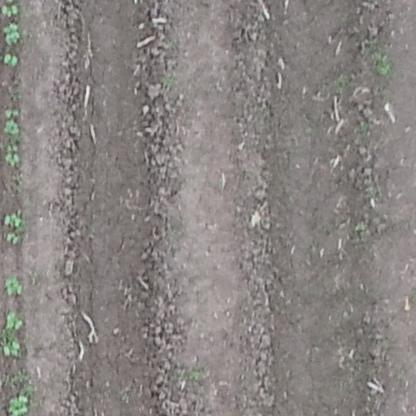vc: (6, 391, 34, 415), (3, 272, 25, 299), (2, 23, 21, 47), (6, 311, 27, 330), (1, 340, 23, 358), (3, 210, 25, 227), (5, 144, 20, 167), (3, 52, 21, 68), (2, 3, 19, 19), (2, 122, 19, 136), (4, 107, 24, 118), (5, 232, 20, 245)
